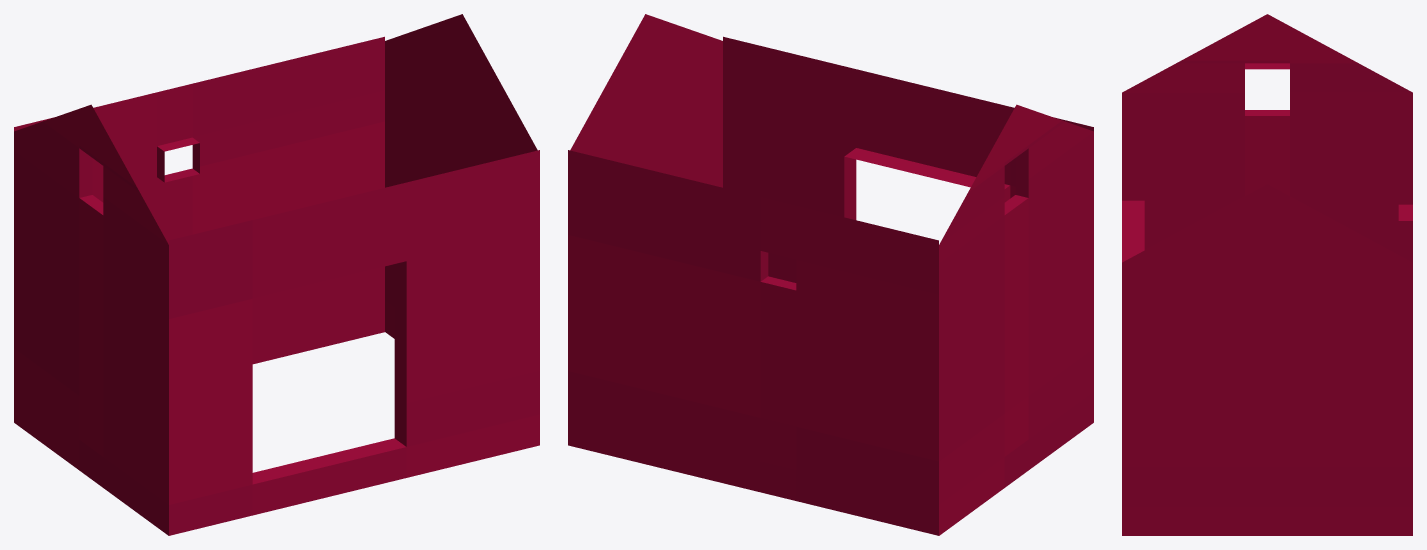
File: SM_Bld_005_Masonry.glb
3 views of the same model, side by side, from view 1: azimuth 30°, elevation 25°; view 2: azimuth 150°, elevation 25°; view 3: azimuth 270°, elevation 25° (orthographic). The views are drawn at different scales.
Visible parts, largest first — view 1: SM_Bld_005_Masonry; view 2: SM_Bld_005_Masonry; view 3: SM_Bld_005_Masonry.
Part boxes in pixels (bbox=[...]): SM_Bld_005_Masonry: bbox=[14, 14, 539, 535]; SM_Bld_005_Masonry: bbox=[568, 14, 1093, 535]; SM_Bld_005_Masonry: bbox=[1122, 14, 1412, 535].
Size of the model in its own units: 6.27 by 6.05 by 4.53.
